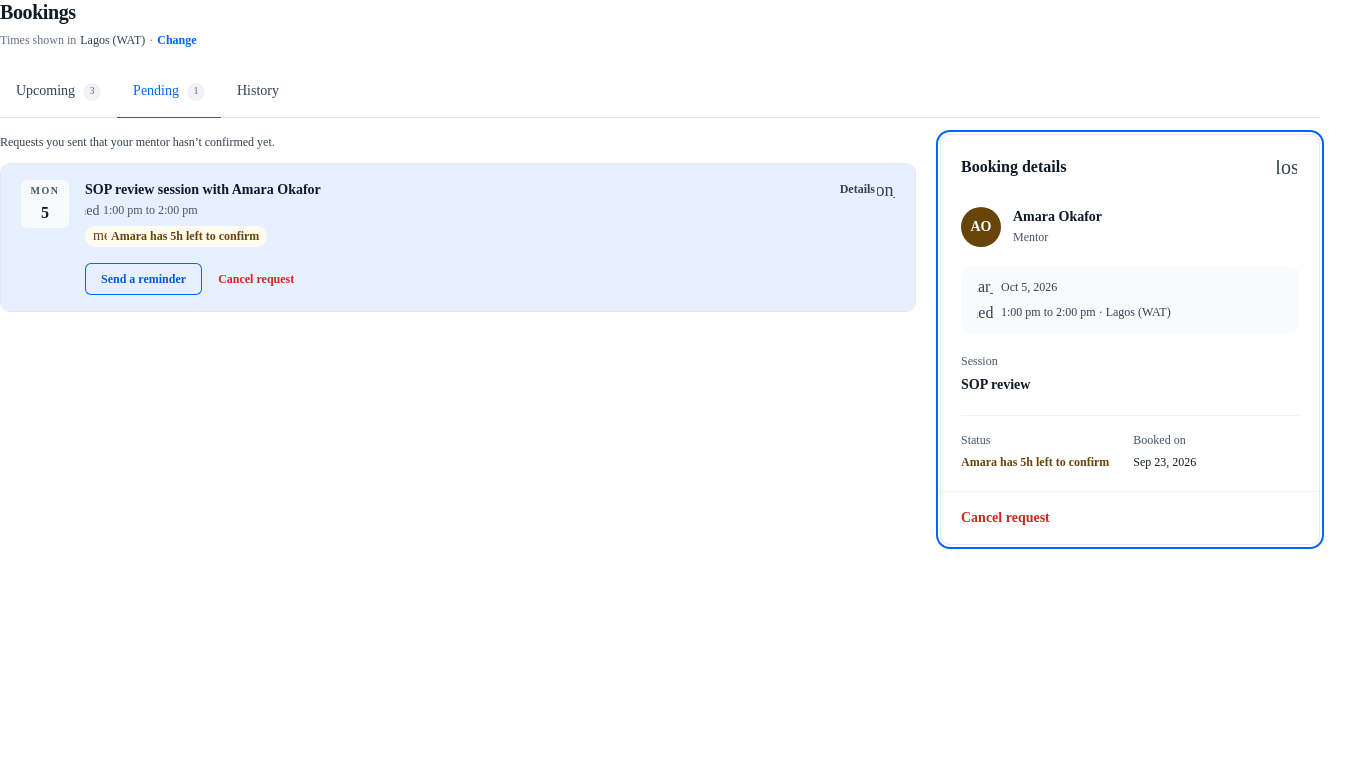
Test case: the actions appear only where they can succeed › Send a reminder (under 24 hours left for the mentor) › the open details panel says Reminder sent with the row, not after the refetch
Step 1. Click the button "Send a reminder" → (144, 279), box [85,263,202,295]
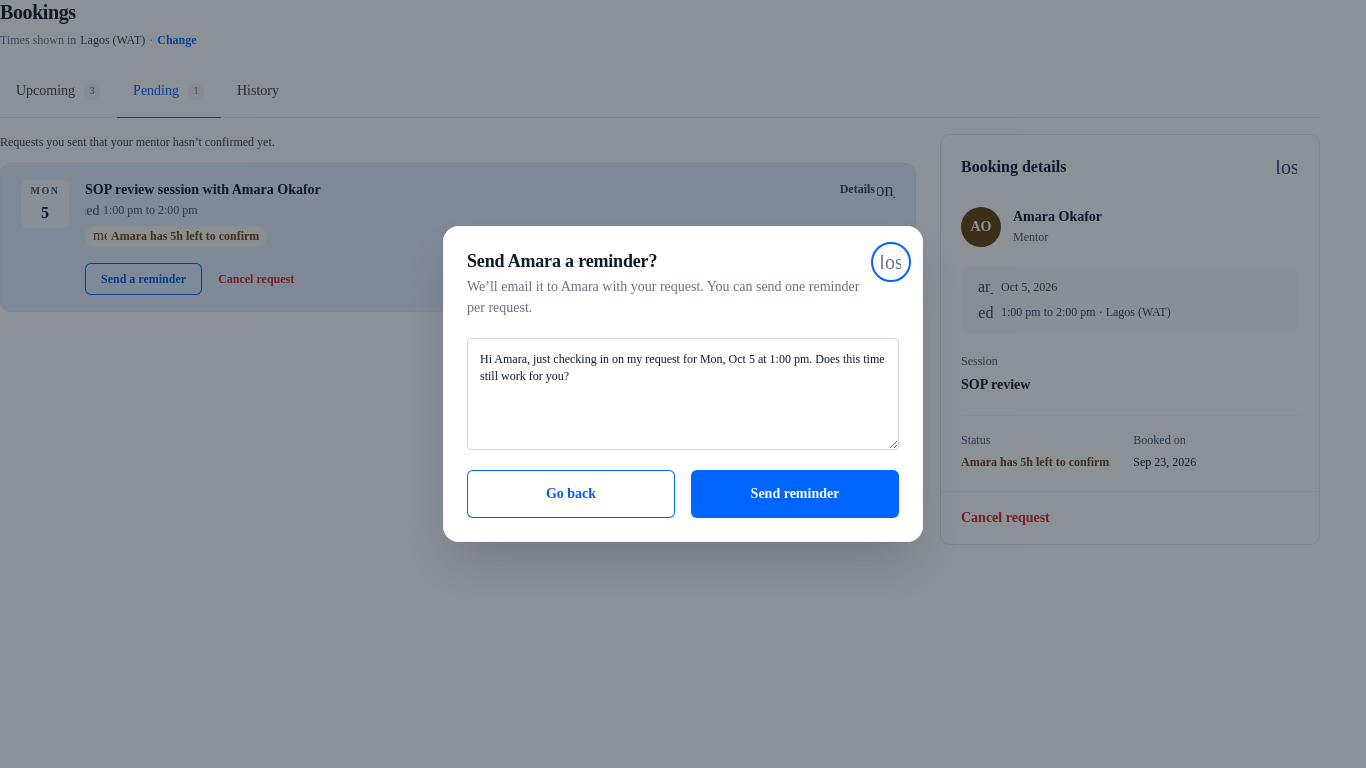
Step 2. Click the button "Send reminder" → (795, 494), box [691,470,899,518]
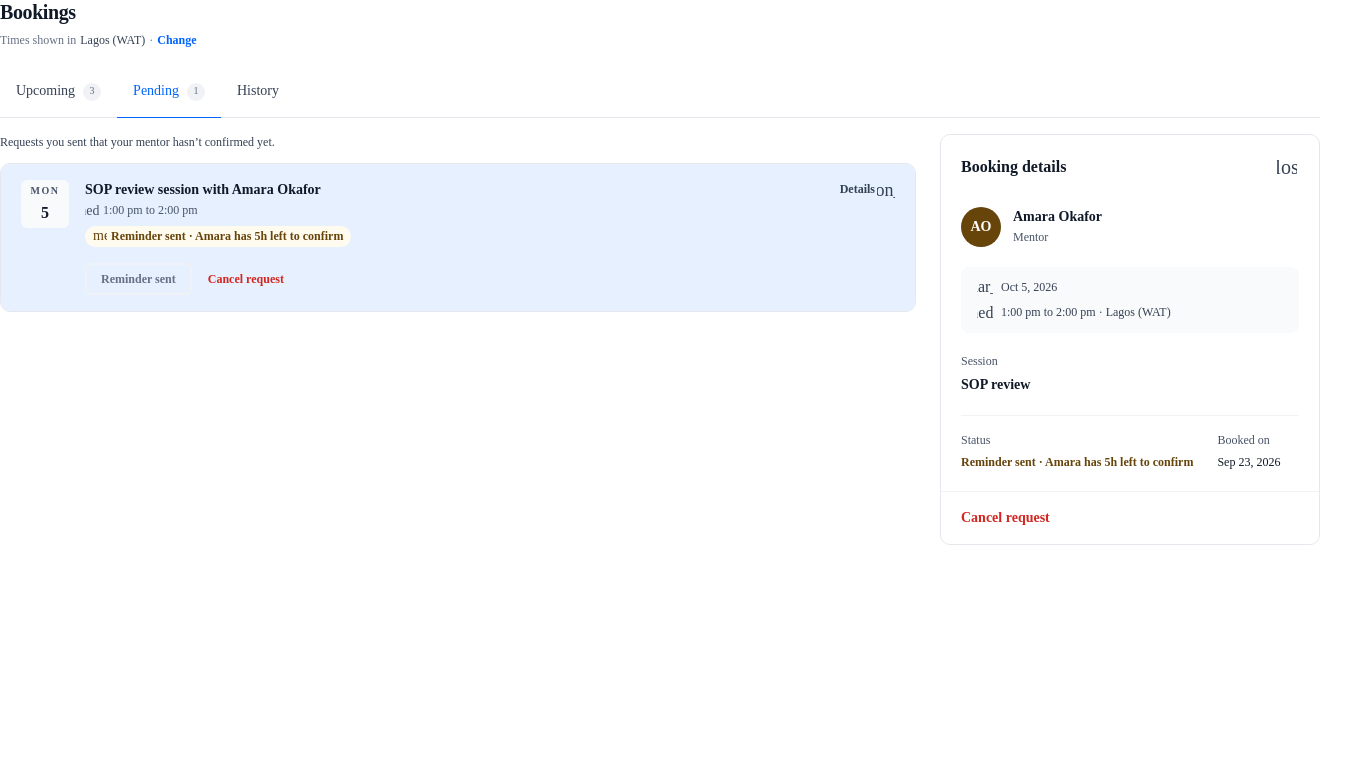
expect the text "Reminder sent · Amara has 5h left to confirm" is shown: met, box [961,454,1193,471]
